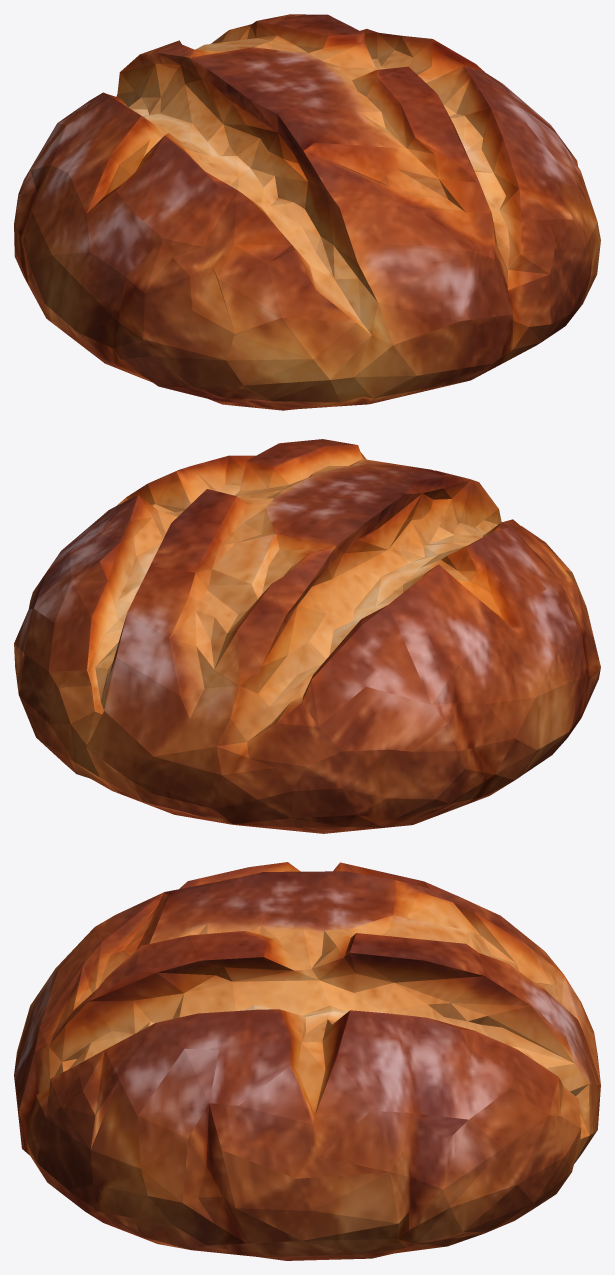
File: bread.glb
3 renders of one model, top to bottom at view 1: azimuth 30°, elevation 25°; view 2: azimuth 150°, elevation 25°; view 3: azimuth 270°, elevation 25°, orthographic. The views are drawn at different scales.
Parts seen in each view (by area): view 1: geometry_0.002; view 2: geometry_0.002; view 3: geometry_0.002.
Boxes of the visible parts, <box> form: geometry_0.002: <box>14,14,600,410</box>; geometry_0.002: <box>14,439,600,833</box>; geometry_0.002: <box>14,862,600,1260</box>.
Bounding box in the file's own units: 0.1996 × 0.1088 × 0.1997.
1 material, 1 textured.
